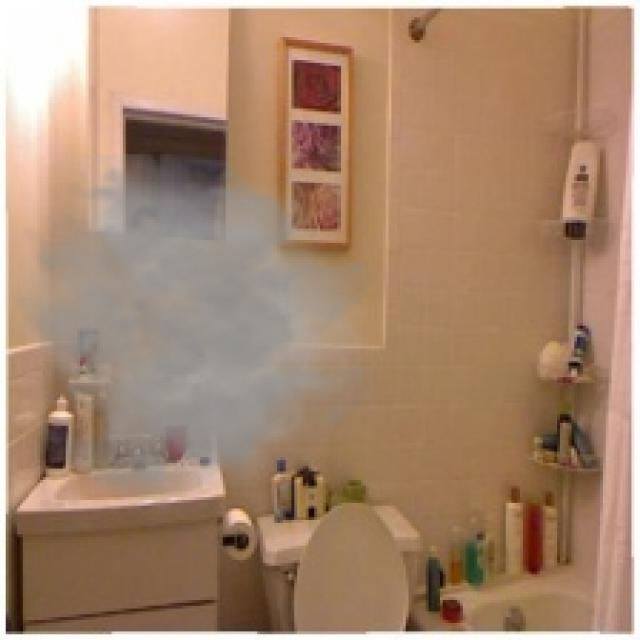smoke: (6, 154, 380, 529)
